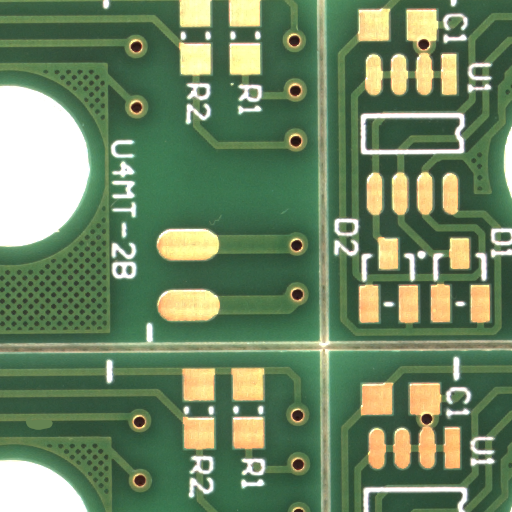Spur: (40, 424, 75, 435)
